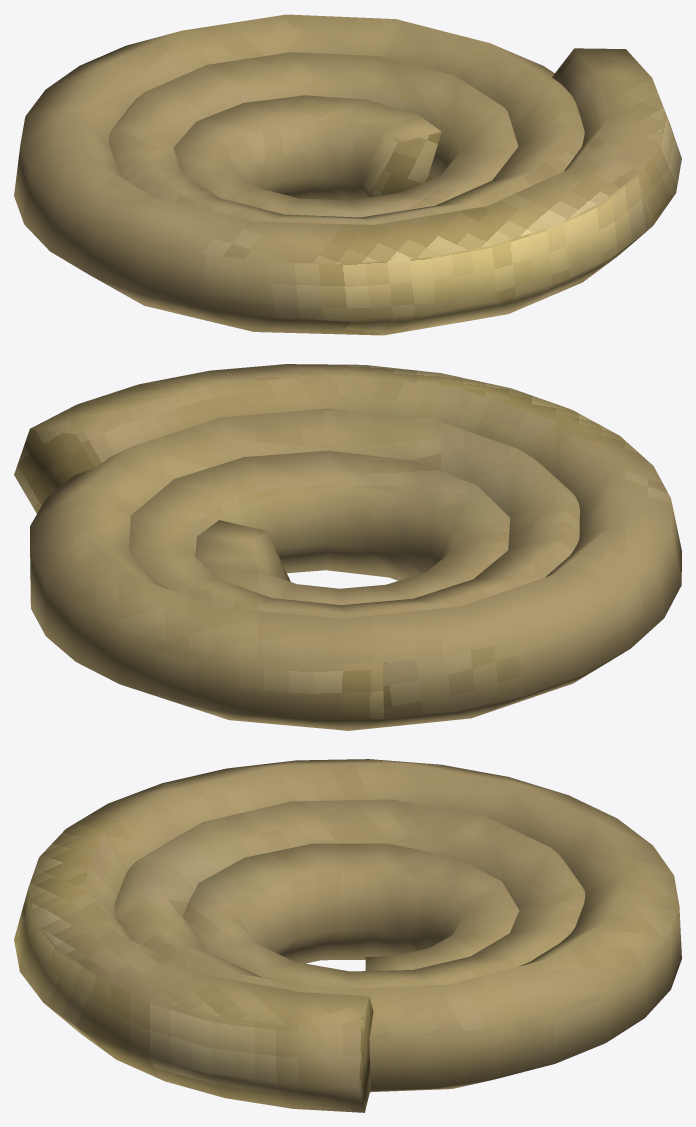
File: pellet_ramen.glb
The picture shows the model from 3 angles, top to bottom: view 1: azimuth 30°, elevation 25°; view 2: azimuth 150°, elevation 25°; view 3: azimuth 270°, elevation 25°; orthographic projection. The views are drawn at different scales.
Parts seen in each view (by area): view 1: prop_pellet_ramen_felt; view 2: prop_pellet_ramen_felt; view 3: prop_pellet_ramen_felt.
Part boxes in pixels (bbox=[...]): prop_pellet_ramen_felt: bbox=[14, 14, 681, 335]; prop_pellet_ramen_felt: bbox=[14, 364, 681, 730]; prop_pellet_ramen_felt: bbox=[14, 759, 681, 1112].
Bounding box in the file's own units: 0.0809 × 0.0182 × 0.0767.
Materials: 1 (1 with a texture image).
